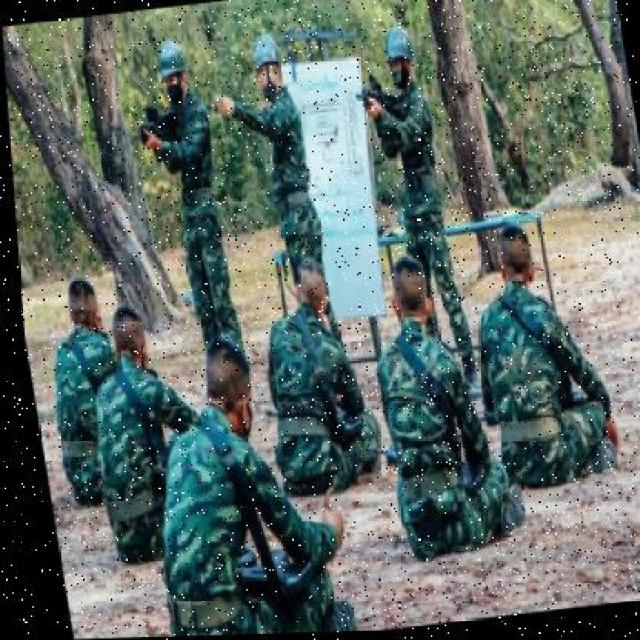MIL_Pax: (138, 351, 294, 637), (360, 288, 482, 572), (235, 257, 373, 505), (474, 250, 606, 502), (136, 27, 239, 341), (81, 322, 188, 560), (360, 49, 454, 253), (21, 285, 113, 477), (228, 34, 314, 198)
